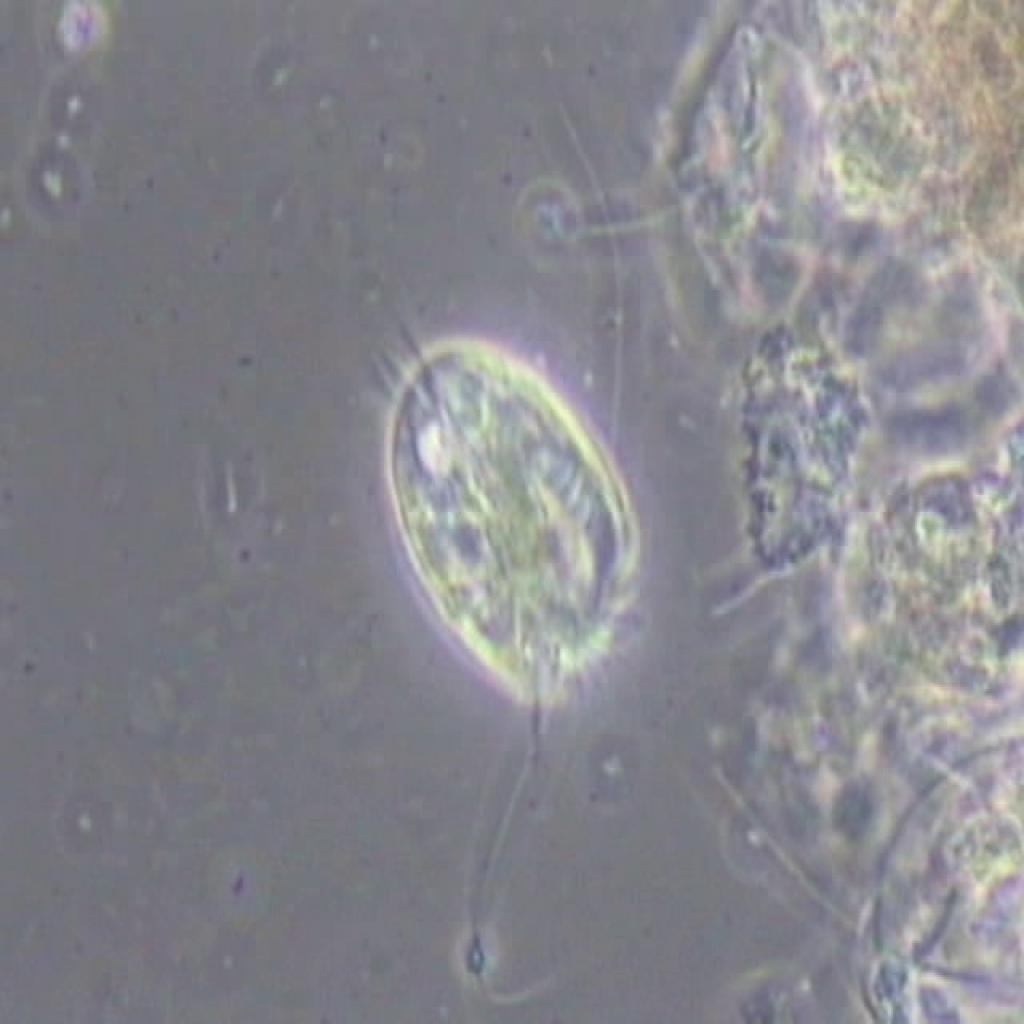Euplotes: (333, 293, 661, 735)
